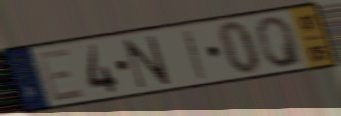0: (214, 20, 264, 77)
4: (86, 41, 121, 95)
E: (34, 46, 88, 104)
I: (180, 28, 208, 82)
N: (121, 33, 173, 91)
Q: (254, 14, 308, 70)
